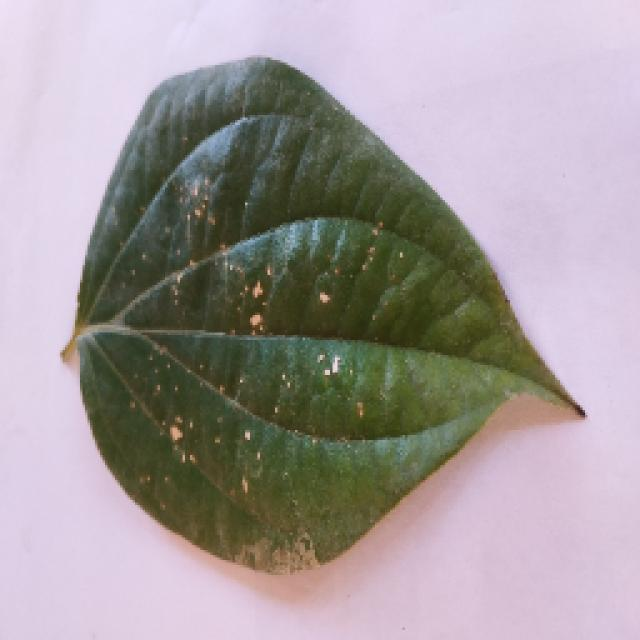pollu-disease: (45, 82, 583, 600)
